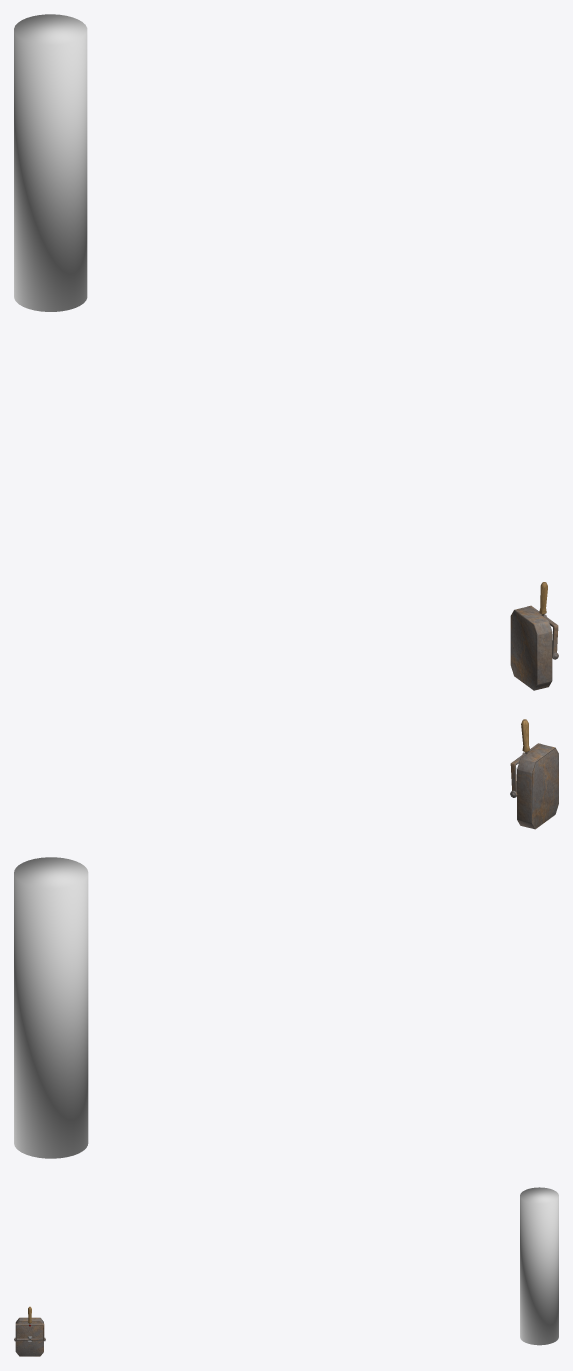
Rendered from switch.glb.
3 renders of one model, top to bottom at view 1: azimuth 30°, elevation 25°; view 2: azimuth 150°, elevation 25°; view 3: azimuth 270°, elevation 25°, orthographic. The views are drawn at different scales.
Visible parts, largest first — view 1: Ref-noimp, SwtichBase; view 2: Ref-noimp, SwtichBase; view 3: Ref-noimp, SwtichBase, Handle.
Part boxes in pixels (left/top/right/bottom): Ref-noimp: left=14, top=14, right=87, bottom=311; SwtichBase: left=510, top=606, right=552, bottom=690; Ref-noimp: left=14, top=857, right=88, bottom=1158; SwtichBase: left=517, top=744, right=558, bottom=829; Ref-noimp: left=520, top=1187, right=558, bottom=1345; SwtichBase: left=15, top=1317, right=43, bottom=1356; Handle: left=14, top=1306, right=45, bottom=1341.
Size of what is drawn, in the model's own units: 0.5 by 2.25 by 6.99.
5 materials, 3 textured.
